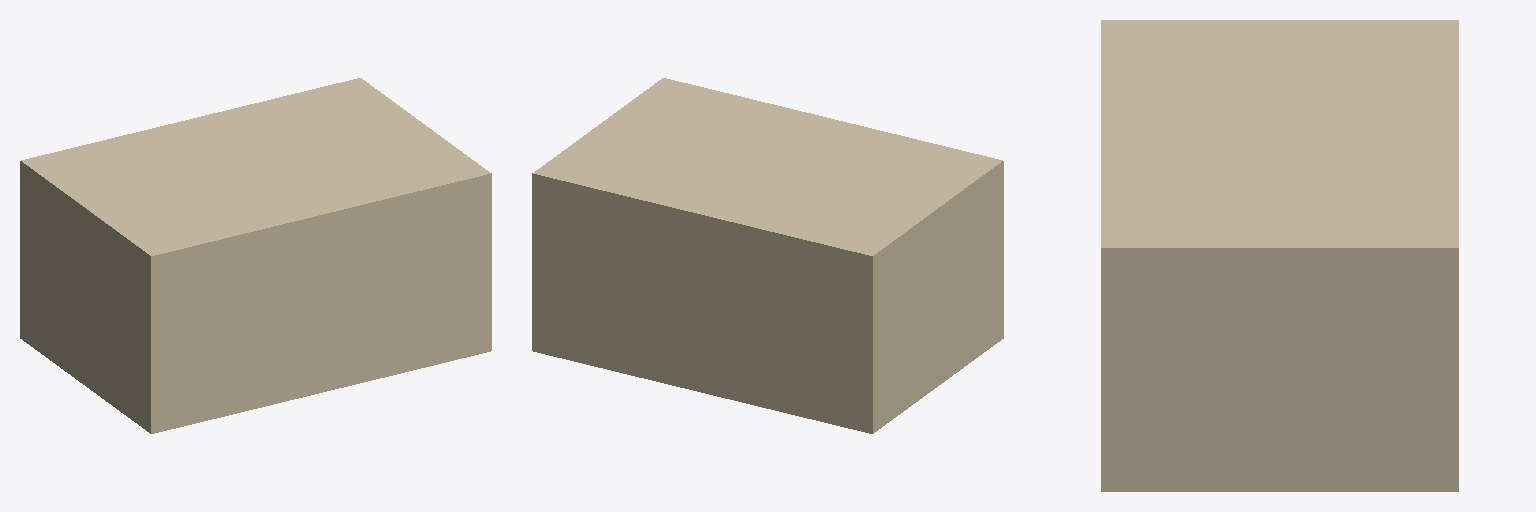
URDF robot description (fw_key_base):
<?xml version="1.0"?>
<!-- A3 force-window asset, generated by FoundationTouch tools/force_window/make_fw_assets.py -->
<robot name="fw_key_base">
  <material name="c"><color rgba="0.85 0.80 0.70 1.0"/></material>
  <link name="object">
    <visual><origin xyz="0 0 0" rpy="0 0 0"/><geometry><mesh filename="fw_key_base.obj" scale="1 1 1"/></geometry><material name="c"/></visual>
    <collision><origin xyz="0 0 0" rpy="0 0 0"/><geometry><mesh filename="fw_key_base.obj" scale="1 1 1"/></geometry></collision>
    <inertial><mass value="1.000000"/><origin xyz="0 0 0" rpy="0 0 0"/><inertia ixx="2.083333e-04" ixy="0" ixz="0" iyy="3.750000e-04" iyz="0" izz="4.333333e-04"/></inertial>
  </link>
</robot>

--- Facts derived from the render (not from the file) ---
Views: 3 orthographic renders of the robot side by side, from view 1: azimuth 30°, elevation 25°; view 2: azimuth 150°, elevation 25°; view 3: azimuth 270°, elevation 25°.
Robot: fw_key_base — 1 links, 0 joints (none); root link object; default pose: all joints at 0.
Visible links, largest first — view 1: object; view 2: object; view 3: object.
Boxes of the visible links, x1,y1,x2,y2 form: object: (20, 78, 491, 433); object: (532, 78, 1003, 433); object: (1101, 20, 1458, 491).
Size in the robot's own frame: 0.06 by 0.04 by 0.03 metres.
Meshes: 1 distinct files referenced, 1 mesh visuals loaded (1 OBJ).
